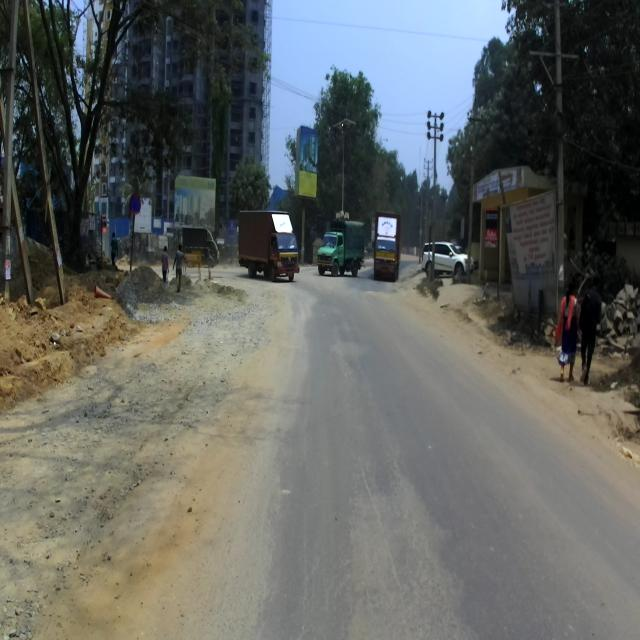truck ahead at: (239, 200, 300, 289), (318, 210, 368, 289), (371, 210, 404, 284)
